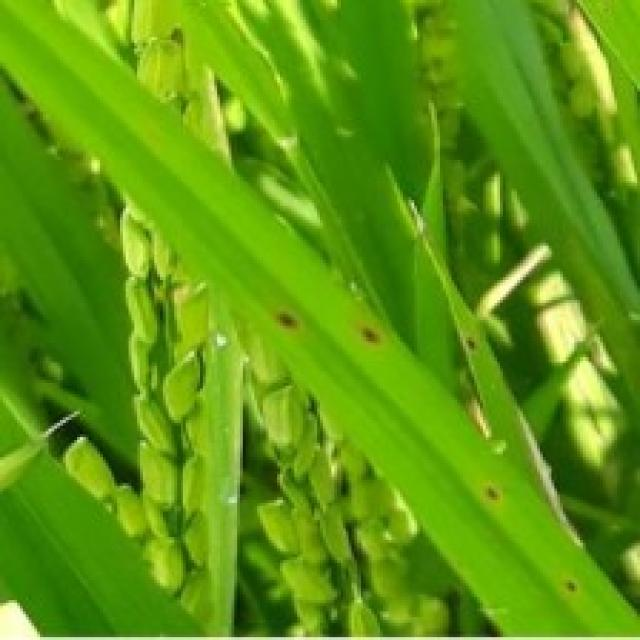Rice___Brown_Spot: (0, 0, 637, 637)
